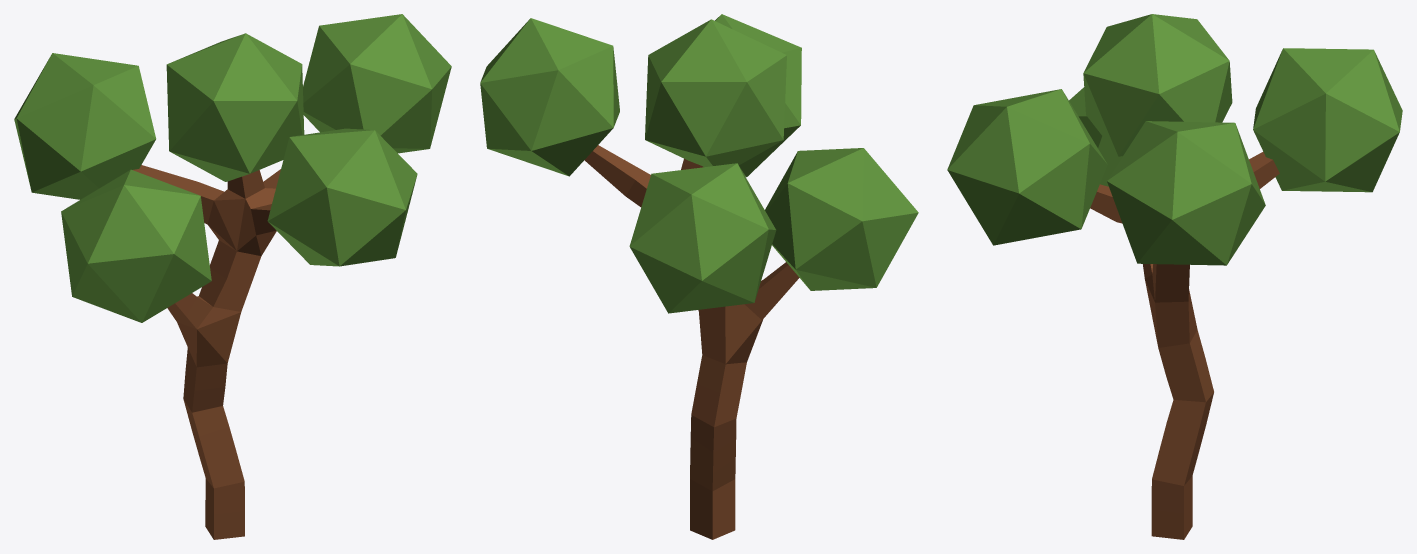
The model's file is tree.fbx.
The picture shows the model from 3 angles, left to right: view 1: azimuth 30°, elevation 25°; view 2: azimuth 150°, elevation 25°; view 3: azimuth 270°, elevation 25°; orthographic projection. The views are drawn at different scales.
Visible parts, largest first — view 1: tree; view 2: tree; view 3: tree.
Boxes of the visible parts, <box> form: tree: <box>14,14,451,539</box>; tree: <box>480,14,918,539</box>; tree: <box>947,14,1402,539</box>.
Bounding box in the file's own units: 7.13 × 8.6 × 6.79.
